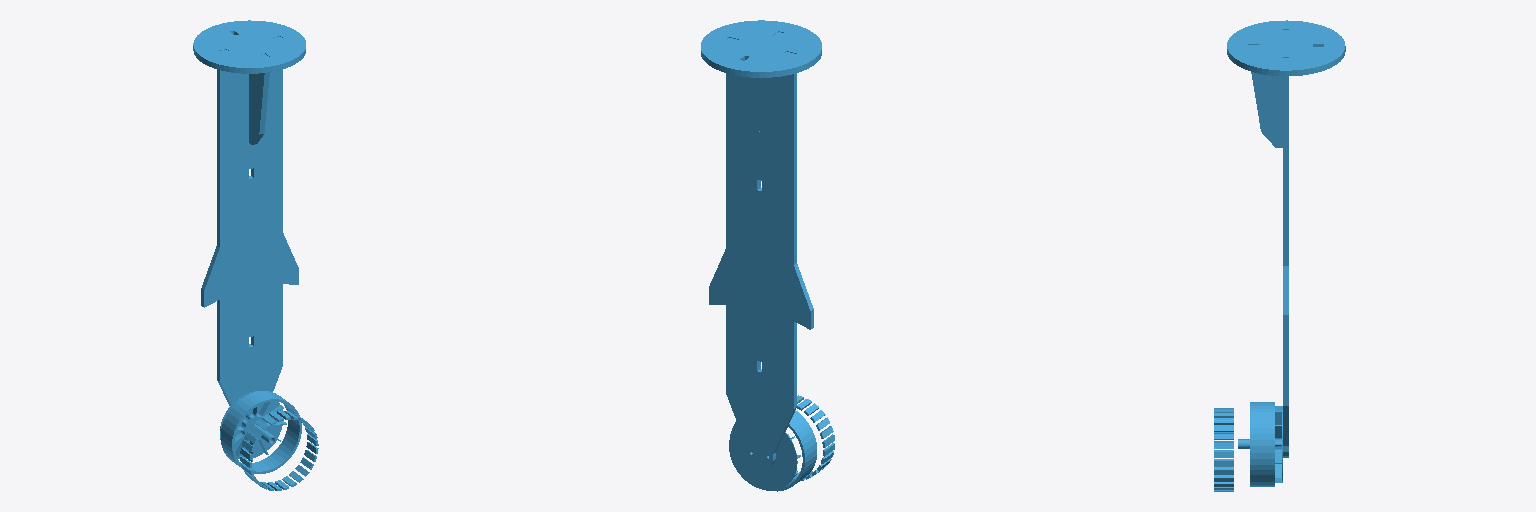
The robot description file, URDF, robot "pendulum":
<?xml version='1.0' encoding='UTF-8'?>
<robot name="pendulum">
  <link name="base_link"/>
  <link name="pendulum_link">
    <inertial>
      <origin xyz="2.971249737646893e-09 0.02576521896158889 0.19294117267885386" rpy="0 0 0"/>
      <mass value="1.4954147111892706"/>
      <inertia ixx="0.002973544185348071" iyy="0.002957665536693213" izz="1.6150801760260592e-05" ixy="-3.3523137095133416e-12" ixz="3.8805288354952e-10" iyz="-0.00020187609191794524"/>
    </inertial>
    <visual>
      <origin xyz="-0.0 -0.0 -0.05" rpy="0 0 0"/>
      <geometry>
        <mesh filename="neodynium.stl" scale="0.001 0.001 0.001"/>
      </geometry>
    </visual>
    <collision>
      <origin xyz="-0.0 -0.0 -0.05" rpy="0 0 0"/>
      <geometry>
        <mesh filename="neodynium.stl" scale="0.001 0.001 0.001"/>
      </geometry>
    </collision>
    <visual>
      <origin xyz="-0.0 -0.0 -0.05" rpy="0 0 0"/>
      <geometry>
        <mesh filename="wood.stl" scale="0.001 0.001 0.001"/>
      </geometry>
    </visual>
    <collision>
      <origin xyz="-0.0 -0.0 -0.05" rpy="0 0 0"/>
      <geometry>
        <mesh filename="wood.stl" scale="0.001 0.001 0.001"/>
      </geometry>
    </collision>
    <visual>
      <origin xyz="-0.0 -0.0 -0.05" rpy="0 0 0"/>
      <geometry>
        <mesh filename="housing.stl" scale="0.001 0.001 0.001"/>
      </geometry>
    </visual>
    <collision>
      <origin xyz="-0.0 -0.0 -0.05" rpy="0 0 0"/>
      <geometry>
        <mesh filename="housing.stl" scale="0.001 0.001 0.001"/>
      </geometry>
    </collision>
    <visual>
      <origin xyz="-0.0 -0.0 -0.05" rpy="0 0 0"/>
      <geometry>
        <mesh filename="steel.stl" scale="0.001 0.001 0.001"/>
      </geometry>
    </visual>
    <collision>
      <origin xyz="-0.0 -0.0 -0.05" rpy="0 0 0"/>
      <geometry>
        <mesh filename="steel.stl" scale="0.001 0.001 0.001"/>
      </geometry>
    </collision>
    <visual>
      <origin xyz="-0.0 -0.0 -0.05" rpy="0 0 0"/>
      <geometry>
        <mesh filename="aluminum.stl" scale="0.001 0.001 0.001"/>
      </geometry>
    </visual>
    <collision>
      <origin xyz="-0.0 -0.0 -0.05" rpy="0 0 0"/>
      <geometry>
        <mesh filename="aluminum.stl" scale="0.001 0.001 0.001"/>
      </geometry>
    </collision>
  </link>
  <joint name="hinge" type="revolute">
    <parent link="base_link"/>
    <child link="pendulum_link"/>
    <origin xyz="0.0 0.0 0.05" rpy="0 0 0"/>
    <axis xyz="0.0 1.0 0.0"/>
    <limit lower="-3.14" upper="3.14" effort="1000" velocity="1000"/>
  </joint>
</robot>

--- What the picture shows (computed from the rendered views, not written in the file) ---
3 views of the same robot in one strip: view 1: azimuth 30°, elevation 25°; view 2: azimuth 150°, elevation 25°; view 3: azimuth 270°, elevation 25° (orthographic).
Model pendulum with 2 links and 1 joints (1 revolute), rooted at base_link, posed every joint at zero.
Links seen in each view (by area): view 1: pendulum_link; view 2: pendulum_link; view 3: pendulum_link.
Boxes of the visible links, box(x1,y1,x2,y2) form: pendulum_link: box(193, 20, 318, 490); pendulum_link: box(701, 20, 834, 491); pendulum_link: box(1214, 20, 1345, 491).
Size in the robot's own frame: 0.0957 by 0.1057 by 0.3935 metres.
5 mesh visuals loaded from 5 distinct referenced files (5 binary STL).